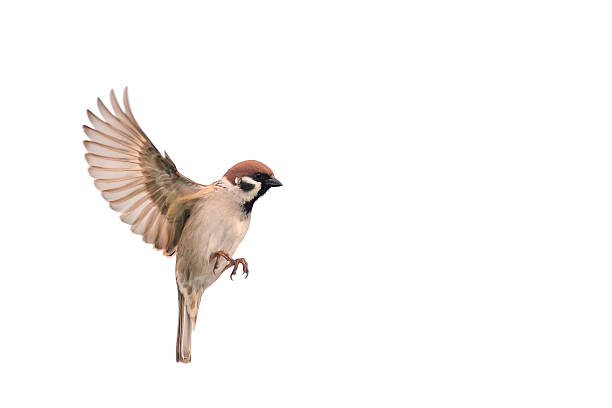Bird: (74, 81, 285, 365)
